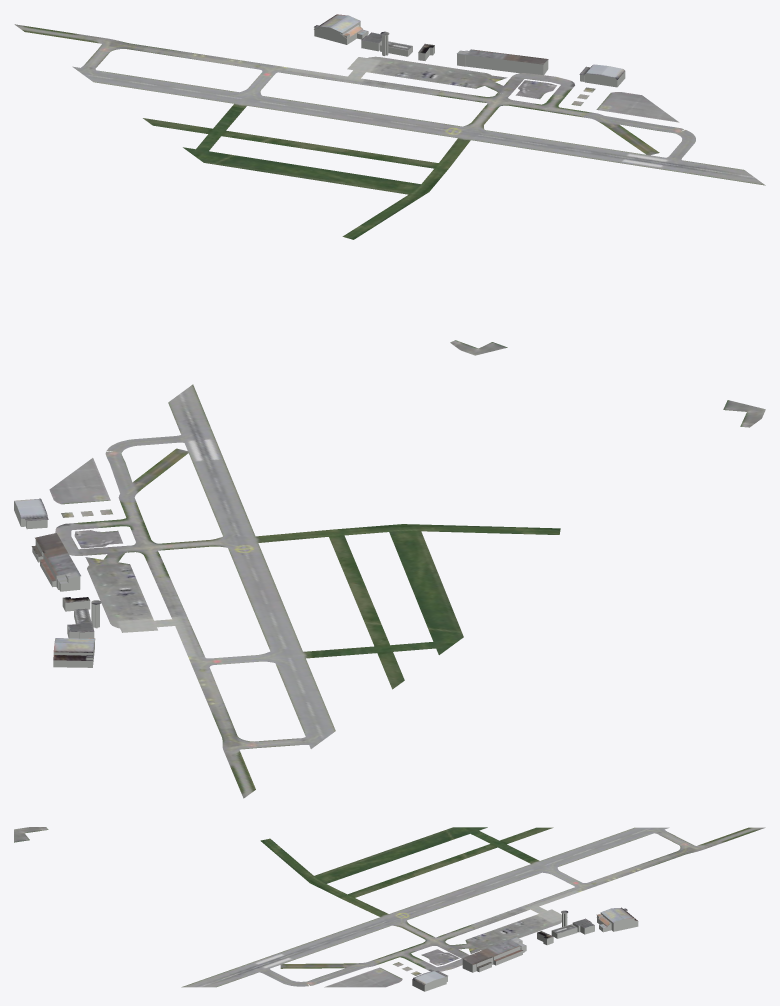
The model's file is LSZB_0_-1.glb.
3 renders of one model, top to bottom at view 1: azimuth 30°, elevation 25°; view 2: azimuth 150°, elevation 25°; view 3: azimuth 270°, elevation 25°, orthographic. The views are drawn at different scales.
Visible parts, largest first — view 1: pavement_LSZB_pavement_5209_2391, pavement_LSZB_pavement_5209_2390, building_11cd57c2f16d4b15, building_48fcf97c3fb0634d, building_5d06b3f88b8d7ede, building_548ba390c5b50774; view 2: pavement_LSZB_pavement_5209_2391, pavement_LSZB_pavement_5209_2390, building_5d06b3f88b8d7ede, building_548ba390c5b50774, building_48fcf97c3fb0634d; view 3: pavement_LSZB_pavement_5209_2391, pavement_LSZB_pavement_5209_2390, building_48fcf97c3fb0634d, building_548ba390c5b50774, building_5d06b3f88b8d7ede, building_11cd57c2f16d4b15.
Part boxes in pixels (x1,y1,x2,y2): pavement_LSZB_pavement_5209_2391: (14, 24, 630, 176); pavement_LSZB_pavement_5209_2390: (292, 93, 765, 355); building_11cd57c2f16d4b15: (457, 54, 548, 75); building_48fcf97c3fb0634d: (314, 21, 412, 56); building_5d06b3f88b8d7ede: (314, 14, 412, 50); building_548ba390c5b50774: (457, 49, 548, 64); pavement_LSZB_pavement_5209_2391: (52, 495, 463, 798); pavement_LSZB_pavement_5209_2390: (49, 384, 765, 591); building_5d06b3f88b8d7ede: (53, 600, 101, 661); building_548ba390c5b50774: (31, 533, 80, 583); building_48fcf97c3fb0634d: (53, 603, 99, 667); pavement_LSZB_pavement_5209_2391: (393, 827, 765, 984); pavement_LSZB_pavement_5209_2390: (14, 827, 392, 987); building_48fcf97c3fb0634d: (551, 910, 638, 938); building_548ba390c5b50774: (462, 937, 526, 968); building_5d06b3f88b8d7ede: (552, 907, 637, 933); building_11cd57c2f16d4b15: (462, 941, 526, 972).
Bounding box in the file's own units: 509 × 25.58 × 992.
3 materials, 2 textured.
